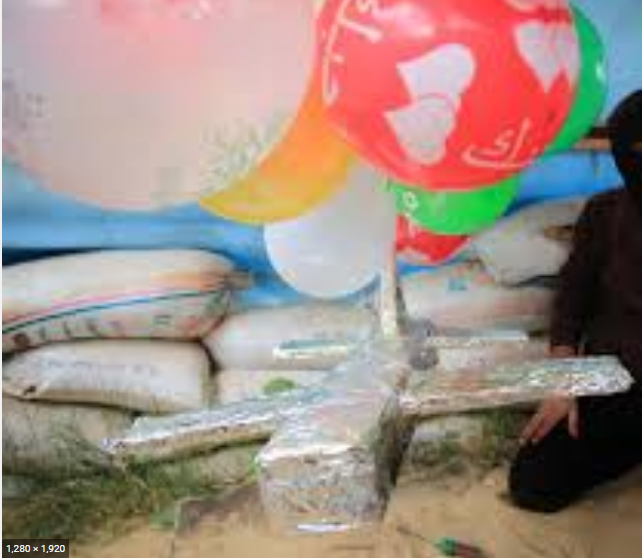Balloon: (1, 1, 324, 211), (305, 1, 578, 185)
